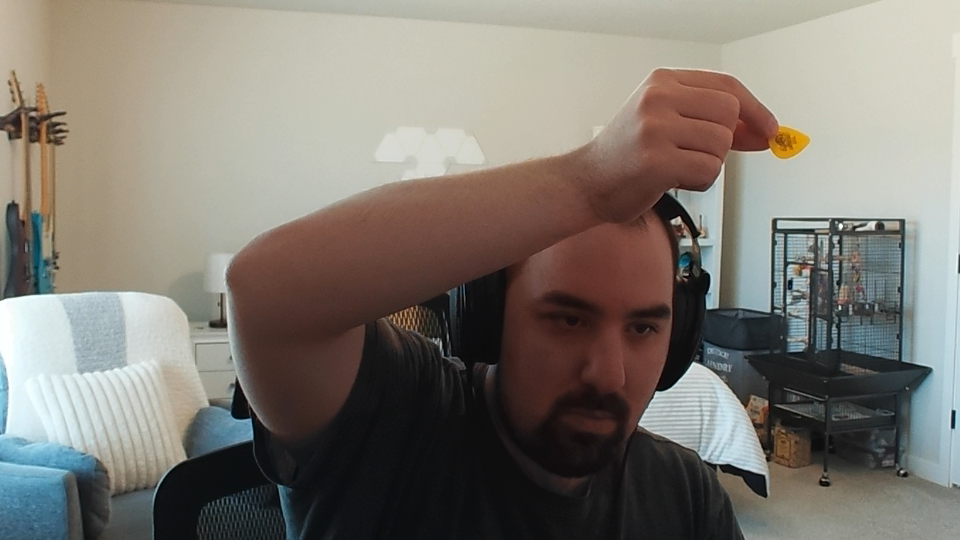GuitarPick: (768, 126, 810, 160)
